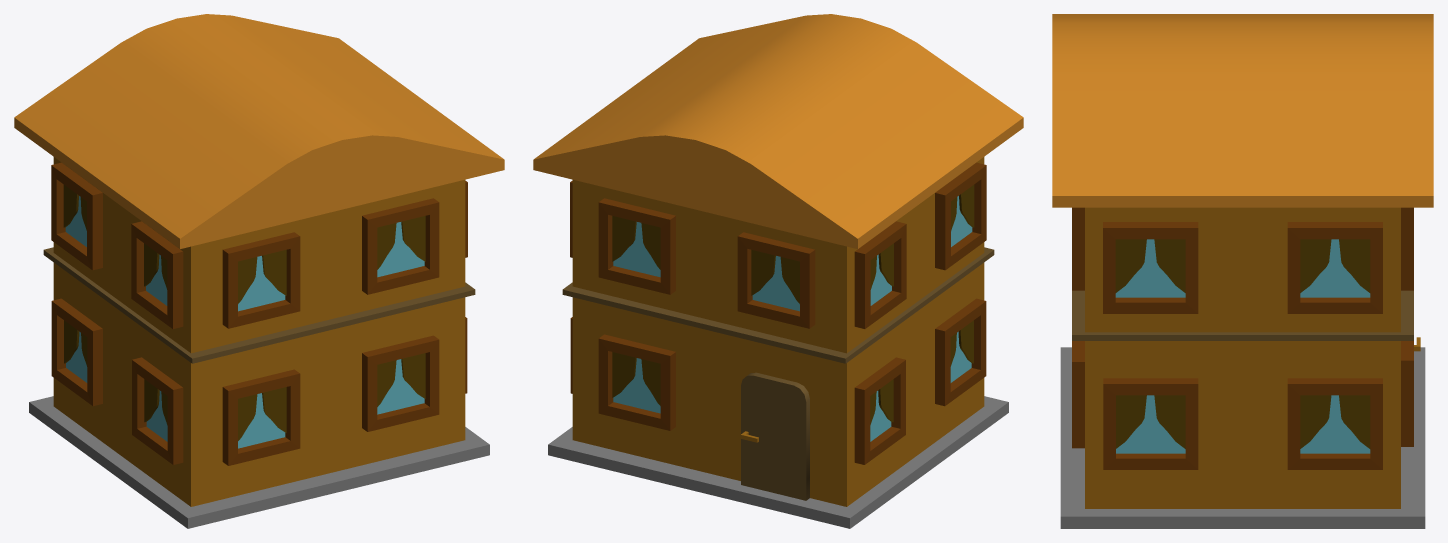
The model's file is House10.fbx.
3 views of the same model, side by side, from view 1: azimuth 30°, elevation 25°; view 2: azimuth 150°, elevation 25°; view 3: azimuth 270°, elevation 25° (orthographic). The views are drawn at different scales.
Parts seen in each view (by area): view 1: House.010; view 2: House.010; view 3: House.010.
Part boxes in pixels (<box>): House.010: <box>14,14,504,528</box>; House.010: <box>533,14,1023,528</box>; House.010: <box>1052,14,1433,528</box>.
Size of the model in its own units: 813 by 849 by 720.
